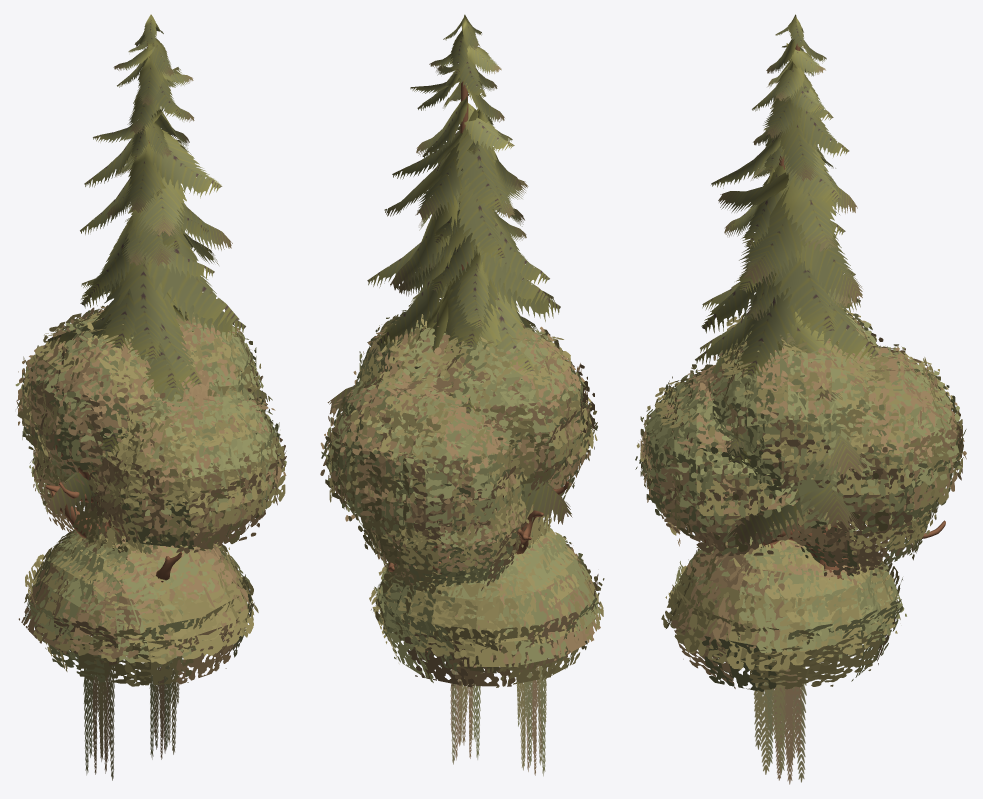
The model's file is EN_tree_v2.gltf.
3 renders of one model, left to right at view 1: azimuth 30°, elevation 25°; view 2: azimuth 150°, elevation 25°; view 3: azimuth 270°, elevation 25°, orthographic. The views are drawn at different scales.
Visible parts, largest first — view 1: EN_Tree_3_c2, EN_Pine_tall_c2, EN_Tree_1_c2, EN_Tree_top_2_c2, EN_Tree_top_1_c2, EN_Pine_thin_c2, EN_Tree_2_c2, EN_Vine_3_c2, EN_Vine_4_c2, EN_Tree_Dry_1_c2, EN_Tree_cone_1_c2, EN_Vine_1_c2 (+1 smaller); view 2: EN_Tree_1_c2, EN_Pine_tall_c2, EN_Tree_top_1_c2, EN_Tree_3_c2, EN_Tree_2_c2, EN_Pine_thin_c2, EN_Tree_top_2_c2, EN_Vine_3_c2, EN_Vine_4_c2, EN_Vine_2_c2, EN_Vine_1_c2, EN_Tree_Dry_1_c2; view 3: EN_Pine_tall_c2, EN_Tree_1_c2, EN_Tree_top_2_c2, EN_Tree_3_c2, EN_Tree_2_c2, EN_Tree_top_1_c2, EN_Pine_thin_c2, EN_Vine_4_c2, EN_Vine_2_c2, EN_Vine_3_c2.
Part boxes in pixels (x1,y1,x2,y2): EN_Tree_3_c2: [15, 312, 269, 553]; EN_Pine_tall_c2: [37, 14, 272, 519]; EN_Tree_1_c2: [22, 305, 286, 552]; EN_Tree_top_2_c2: [28, 532, 258, 686]; EN_Tree_top_1_c2: [18, 519, 246, 667]; EN_Pine_thin_c2: [48, 118, 214, 387]; EN_Tree_2_c2: [29, 380, 235, 541]; EN_Vine_3_c2: [85, 636, 172, 774]; EN_Vine_4_c2: [89, 657, 179, 780]; EN_Tree_Dry_1_c2: [45, 439, 182, 582]; EN_Tree_cone_1_c2: [86, 506, 168, 559]; EN_Vine_1_c2: [83, 668, 155, 775]; EN_Tree_1_c2: [320, 319, 590, 541]; EN_Pine_tall_c2: [327, 14, 572, 525]; EN_Tree_top_1_c2: [373, 522, 604, 673]; EN_Tree_3_c2: [353, 299, 597, 545]; EN_Tree_2_c2: [362, 398, 573, 593]; EN_Pine_thin_c2: [418, 108, 555, 413]; EN_Tree_top_2_c2: [369, 519, 600, 687]; EN_Vine_3_c2: [459, 657, 546, 775]; EN_Vine_4_c2: [451, 656, 542, 770]; EN_Vine_2_c2: [449, 657, 533, 771]; EN_Vine_1_c2: [475, 661, 546, 776]; EN_Tree_Dry_1_c2: [498, 452, 568, 554]; EN_Pine_tall_c2: [700, 14, 878, 547]; EN_Tree_1_c2: [643, 308, 966, 556]; EN_Tree_top_2_c2: [661, 535, 903, 691]; EN_Tree_3_c2: [635, 338, 960, 529]; EN_Tree_2_c2: [682, 364, 937, 576]; EN_Tree_top_1_c2: [670, 535, 906, 667]; EN_Pine_thin_c2: [695, 127, 877, 364]; EN_Vine_4_c2: [753, 661, 806, 782]; EN_Vine_2_c2: [766, 657, 804, 784]; EN_Vine_3_c2: [756, 660, 802, 780].
Size of the model in its own units: 2.85 by 8.45 by 3.34.
Materials: 4 (3 with a texture image).
